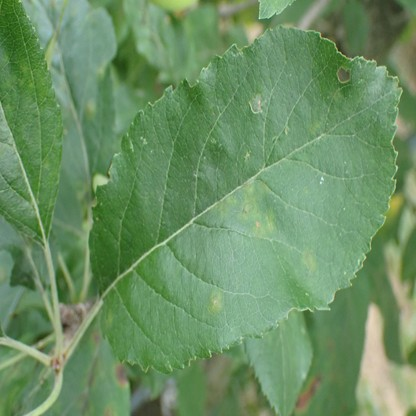frogeye_leaf_spot: (113, 361, 128, 385)
scab: (242, 178, 270, 221), (84, 353, 102, 391), (211, 192, 236, 216), (299, 247, 318, 278), (254, 211, 274, 236), (78, 392, 96, 416), (207, 289, 222, 313), (85, 96, 95, 119), (312, 119, 322, 131)
